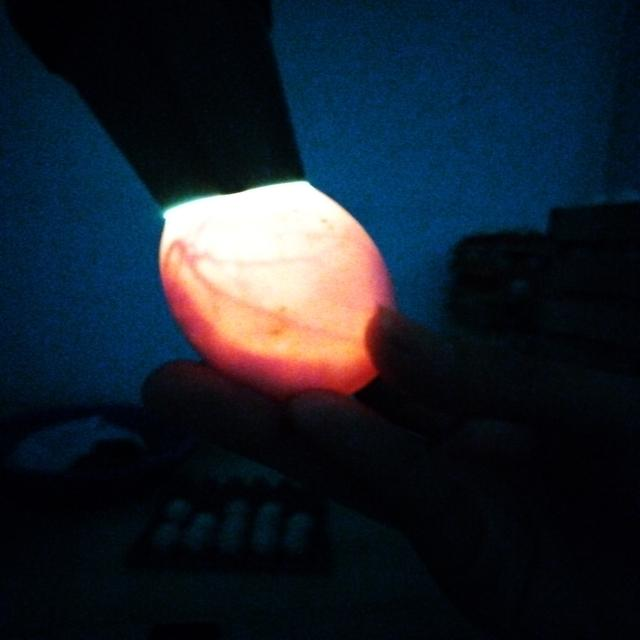Embriao: (158, 266, 378, 400)
